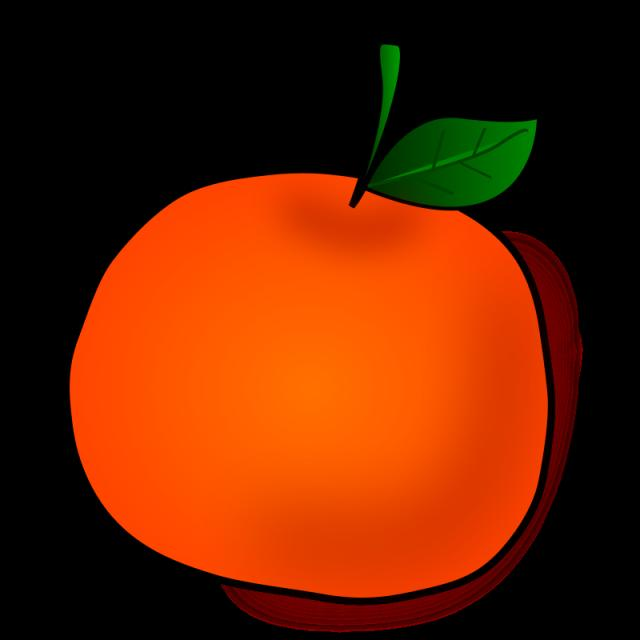orange: (66, 43, 559, 590)
